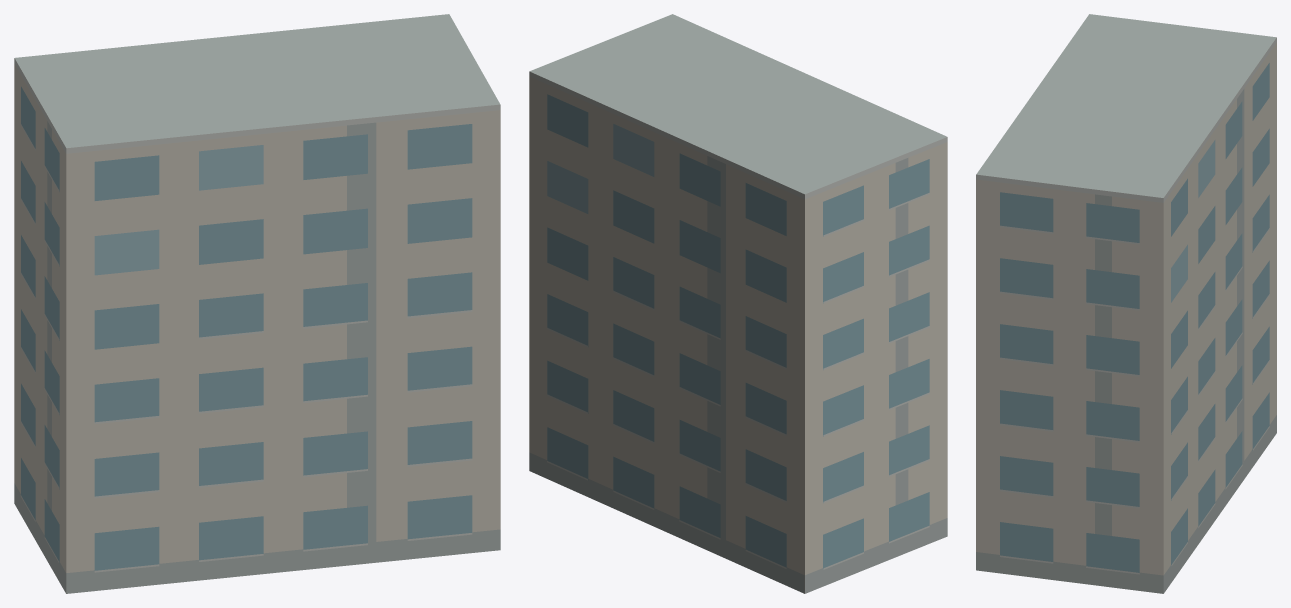
Rendered from survey-upis-32964770.glb.
3 views of the same model, side by side, from view 1: azimuth 30°, elevation 25°; view 2: azimuth 150°, elevation 25°; view 3: azimuth 270°, elevation 25° (orthographic). The views are drawn at different scales.
Parts seen in each view (by area): view 1: survey-upis-32964770.tmp; view 2: survey-upis-32964770.tmp; view 3: survey-upis-32964770.tmp.
Boxes of the visible parts, bbox=[...] form: survey-upis-32964770.tmp: bbox=[14, 14, 500, 593]; survey-upis-32964770.tmp: bbox=[529, 14, 947, 593]; survey-upis-32964770.tmp: bbox=[976, 14, 1276, 593].
Bounding box in the file's own units: 19.66 × 19.7 × 13.58.
